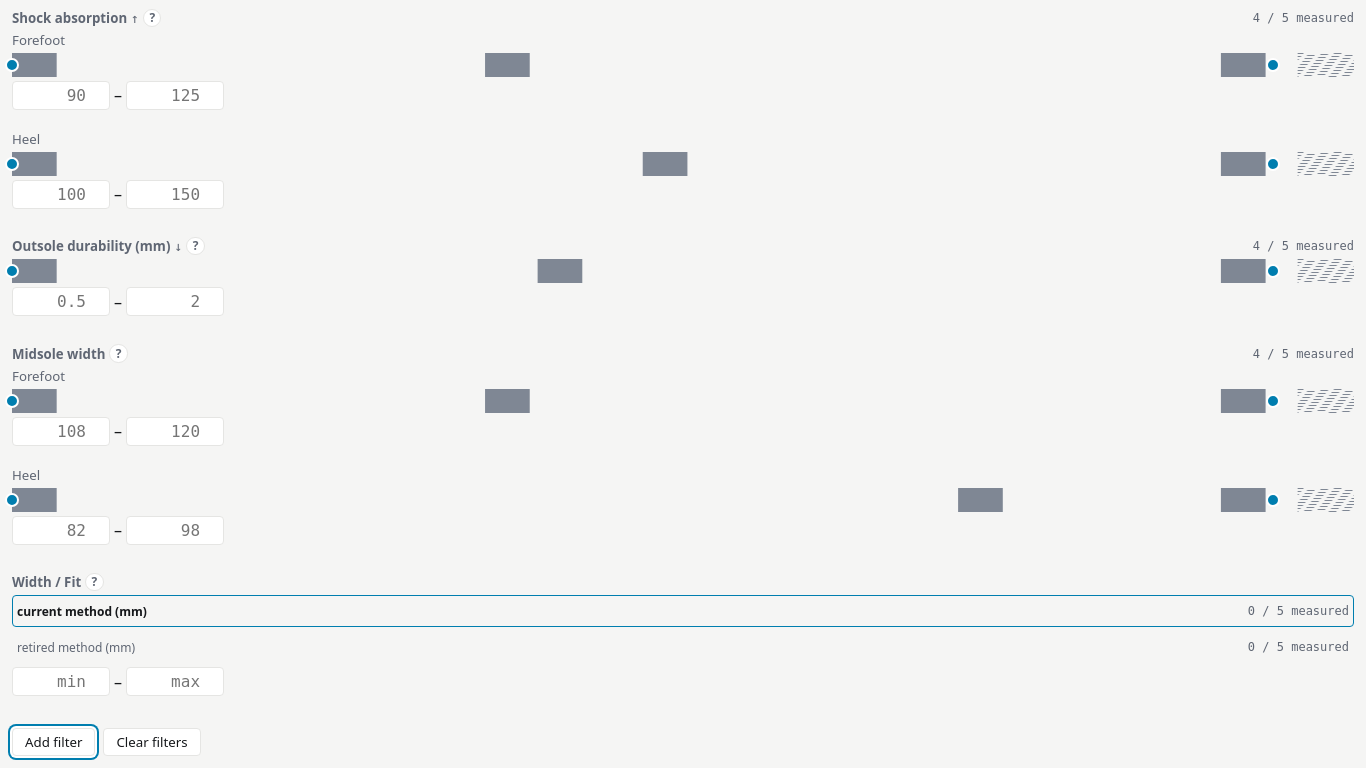
FilterSidebar filter set management › offers only what is not already on screen, and adds the chosen one
(page scrolled)
Step 1. Click the button "Add filter" → (54, 742), box [12, 728, 95, 756]
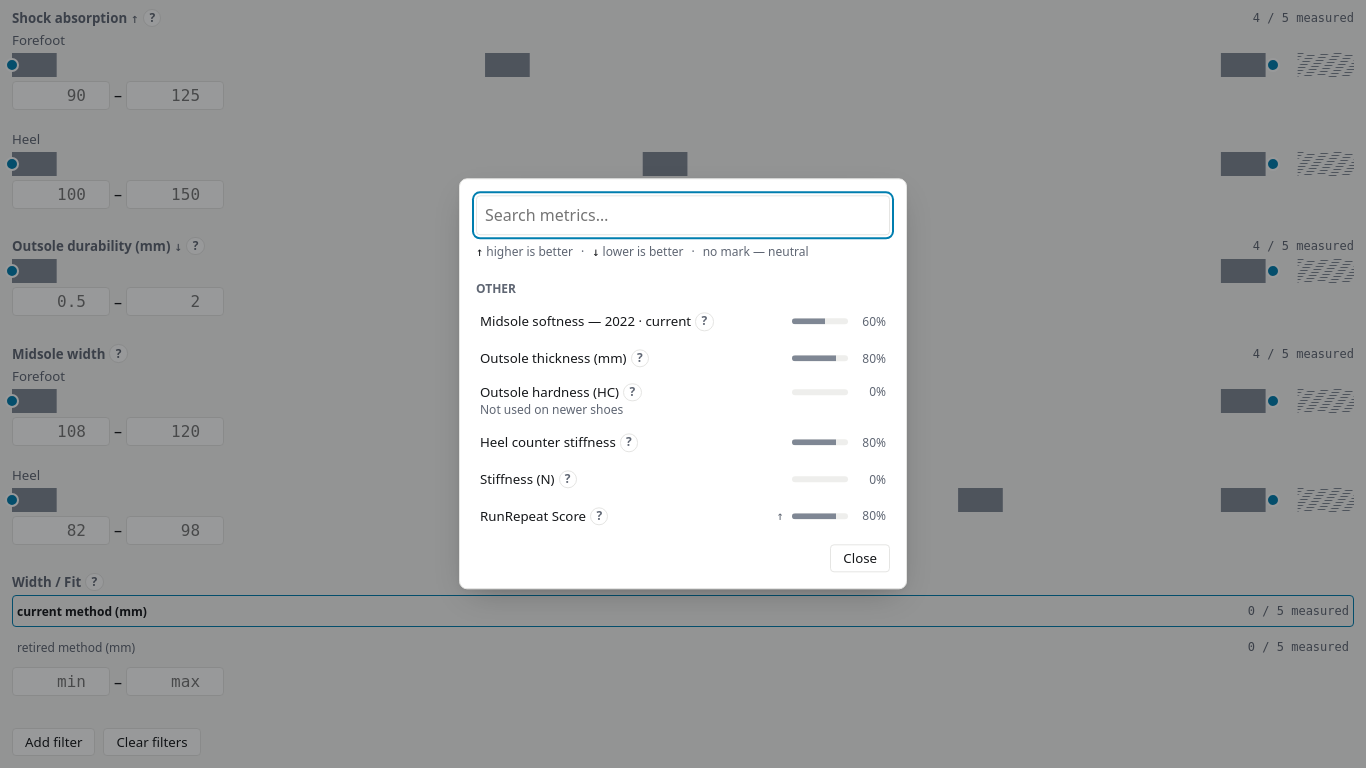
Check: the number of buttons named "Add filter:" is 6
Step 2. Click the button named "Add filter: Stiffness" → (683, 480), box [476, 463, 890, 496]
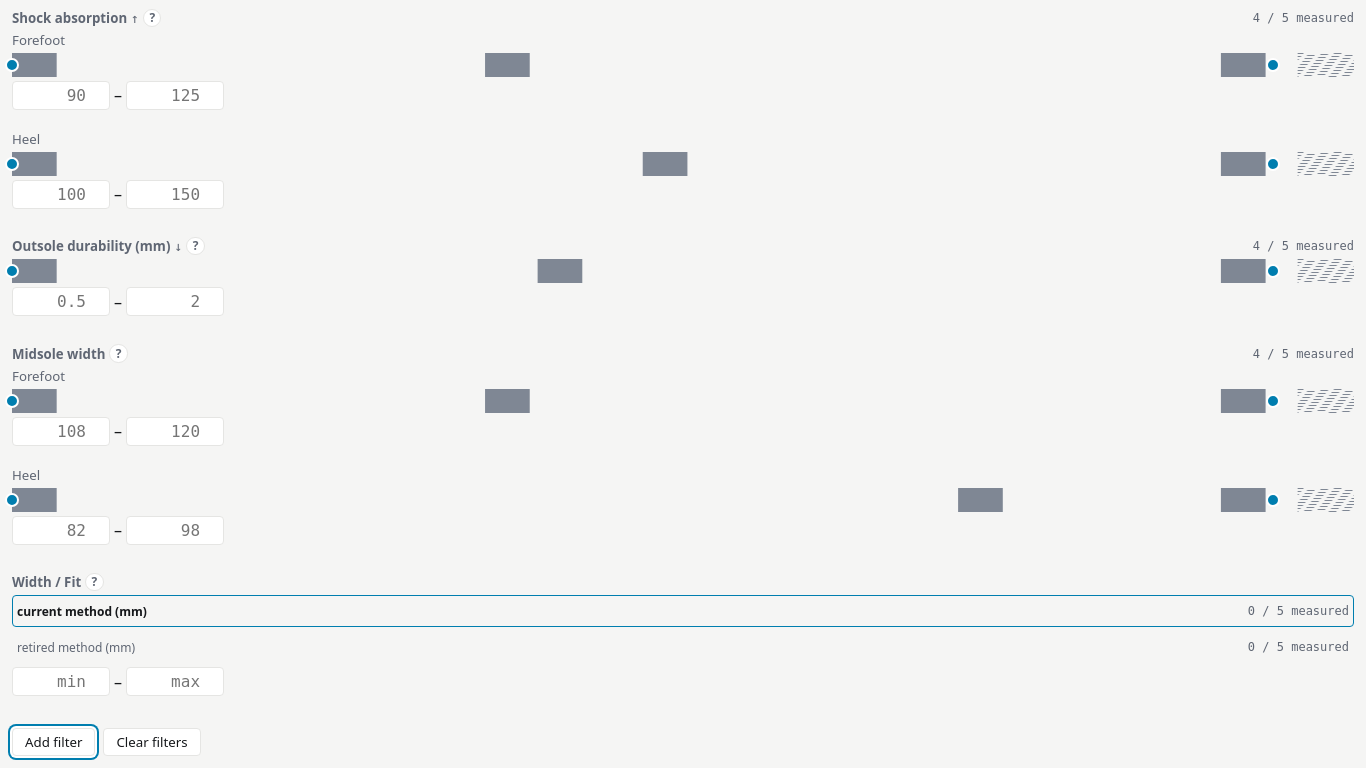
Check: the dialog is gone
